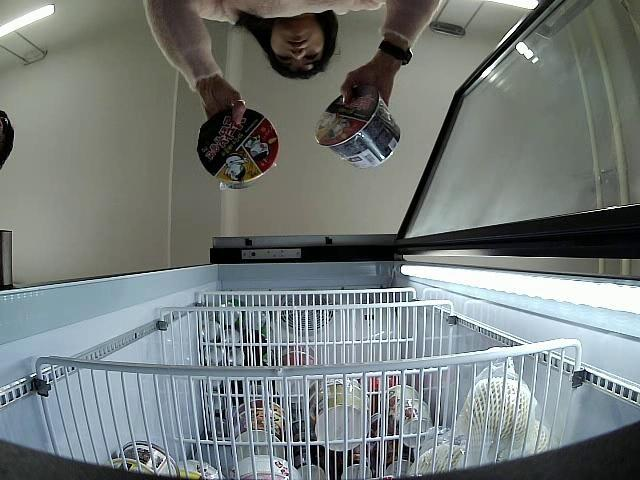07_buldak_L: (195, 111, 278, 192), (314, 92, 400, 166)
